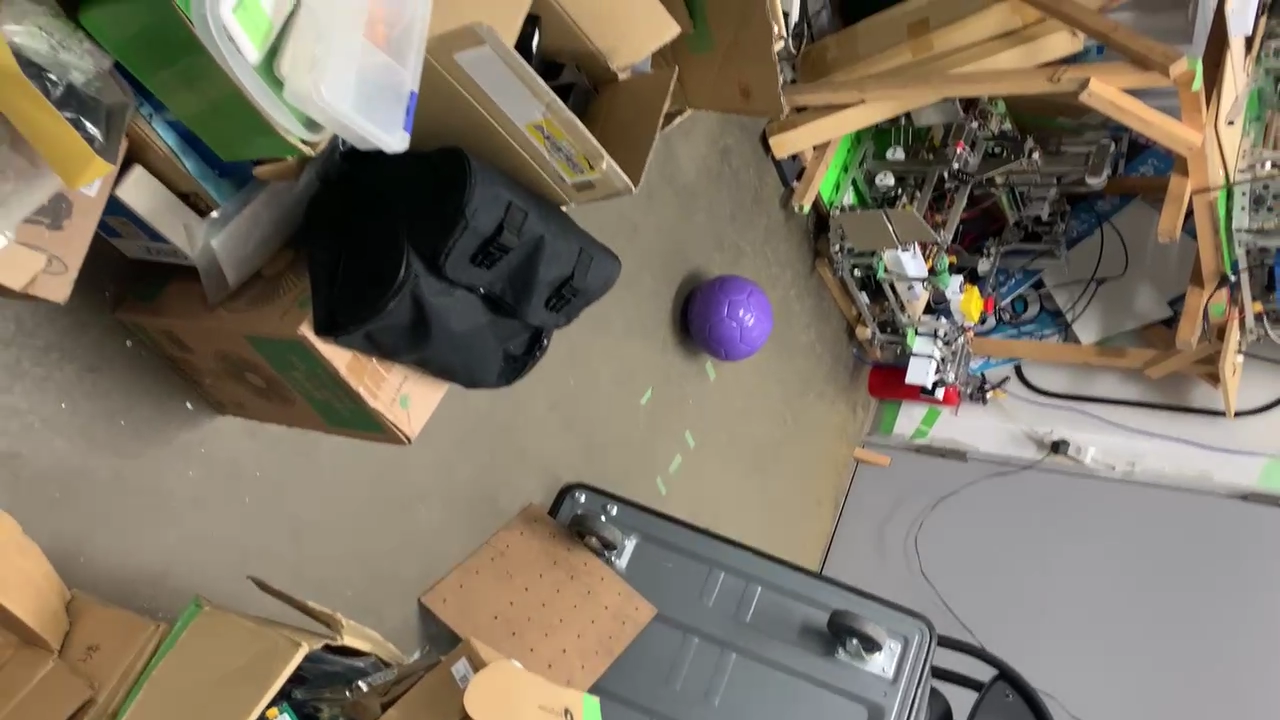purple: (686, 273, 773, 360)
